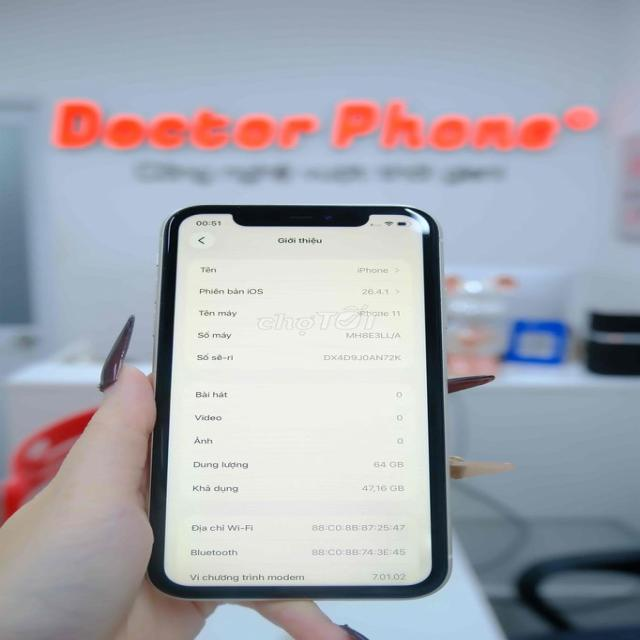gen_11: (153, 200, 454, 599)
